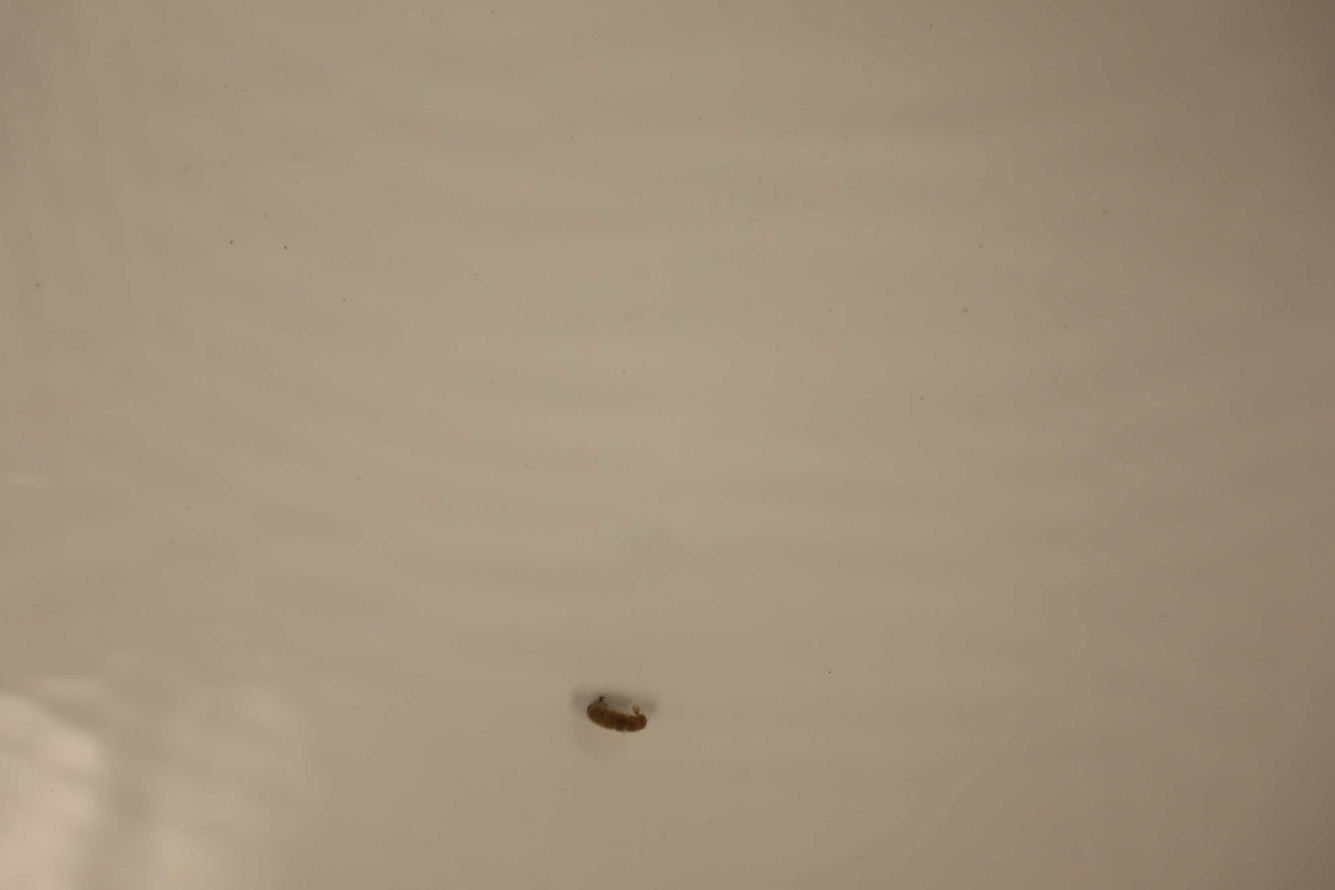Cadisfly: (578, 694, 649, 736)
